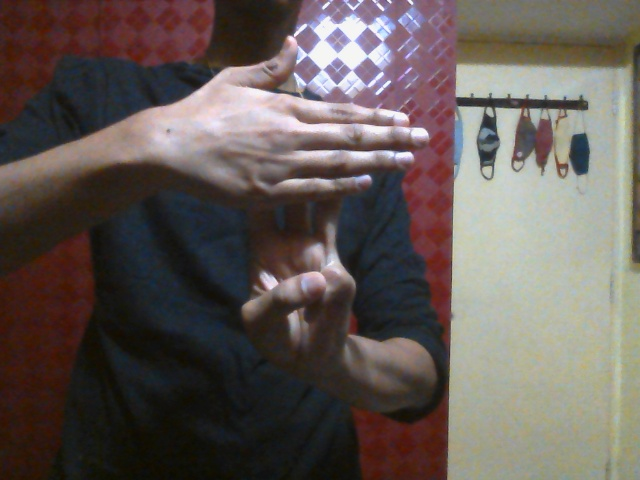M: (183, 33, 430, 390)
